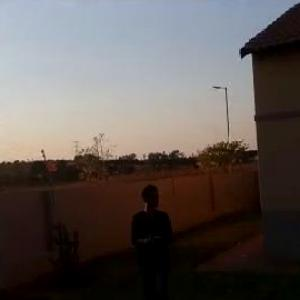follow: (125, 178, 179, 299)
